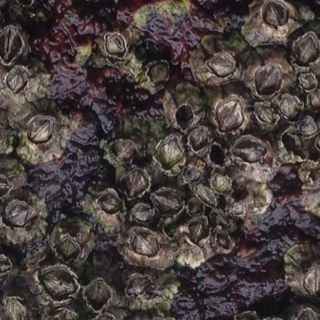Barnacle: (40, 268, 79, 304), (255, 61, 283, 96), (217, 98, 245, 133), (156, 139, 186, 170), (232, 136, 264, 164), (132, 230, 160, 258), (261, 2, 289, 29), (121, 171, 149, 198), (295, 35, 319, 66), (7, 201, 33, 229), (0, 31, 23, 62), (28, 118, 54, 144), (153, 192, 182, 215), (208, 53, 233, 79), (87, 282, 108, 310), (302, 266, 319, 300), (113, 139, 137, 163), (279, 96, 302, 121), (97, 192, 123, 214), (105, 33, 127, 58), (187, 219, 209, 244), (9, 68, 28, 96), (128, 275, 152, 297), (147, 62, 168, 86), (254, 103, 275, 126), (131, 204, 154, 223), (61, 238, 82, 258), (214, 174, 233, 196), (298, 118, 318, 138), (297, 70, 316, 91), (190, 130, 209, 151), (5, 299, 24, 319), (185, 163, 204, 182), (197, 186, 216, 205), (212, 211, 230, 229), (228, 196, 243, 216), (188, 199, 204, 216), (308, 164, 319, 185), (216, 234, 231, 248), (309, 88, 319, 108), (0, 256, 11, 273), (0, 0, 13, 11)
